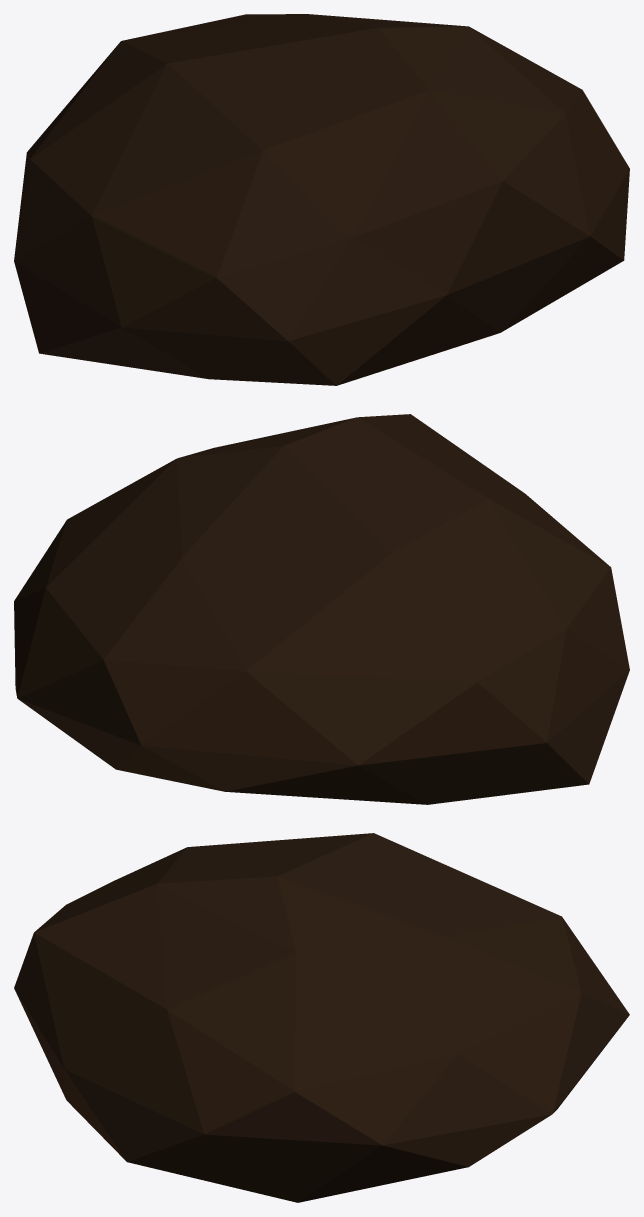
The model's file is m_rock.glb.
3 views of the same model, one above another, from view 1: azimuth 30°, elevation 25°; view 2: azimuth 150°, elevation 25°; view 3: azimuth 270°, elevation 25° (orthographic). The views are drawn at different scales.
Parts seen in each view (by area): view 1: Icosphere; view 2: Icosphere; view 3: Icosphere.
Part boxes in pixels (x1,y1,x2,y2): Icosphere: (14, 14, 629, 385); Icosphere: (14, 414, 629, 804); Icosphere: (14, 833, 629, 1202).
Size of the model in its own units: 1.69 by 0.9124 by 1.72.
1 material, 1 textured.
